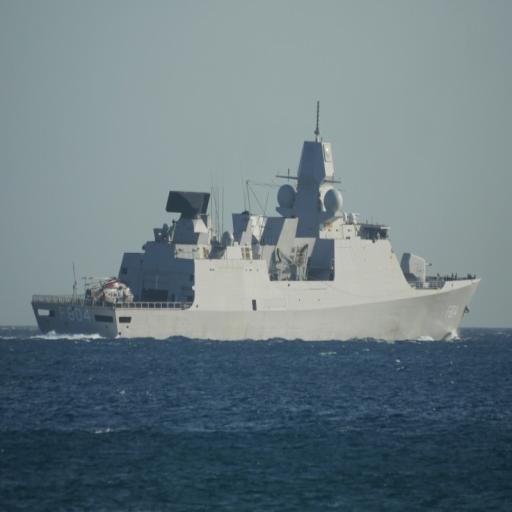Fragata: (27, 104, 486, 345)
